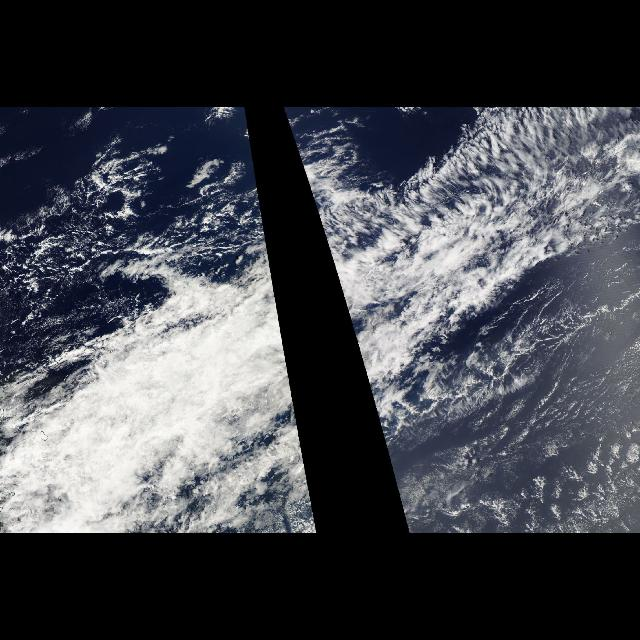Sugar: (429, 270, 637, 530)
